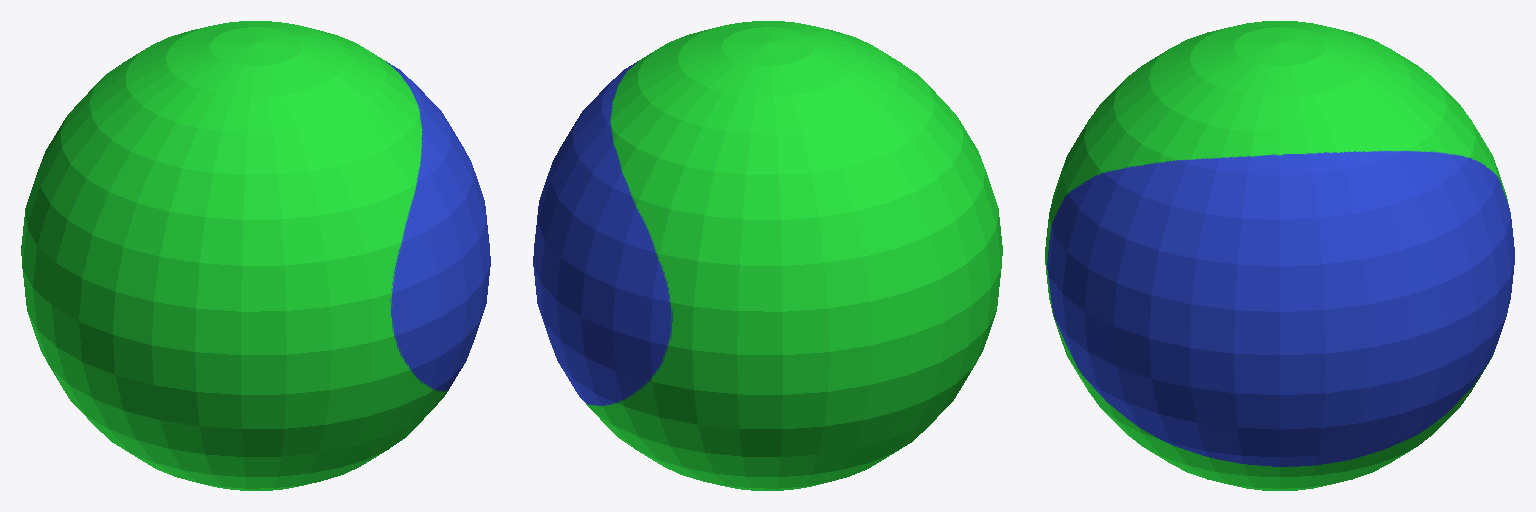
3 views of the same model, side by side, from view 1: azimuth 30°, elevation 25°; view 2: azimuth 150°, elevation 25°; view 3: azimuth 270°, elevation 25° (orthographic).
Visible parts, largest first — view 1: Sphere; view 2: Sphere; view 3: Sphere.
Part boxes in pixels (bbox=[...]): Sphere: bbox=[21, 21, 490, 490]; Sphere: bbox=[533, 21, 1002, 490]; Sphere: bbox=[1045, 21, 1514, 490].
Bounding box in the file's own units: 2 × 2 × 2.
1 materials, 1 textured.